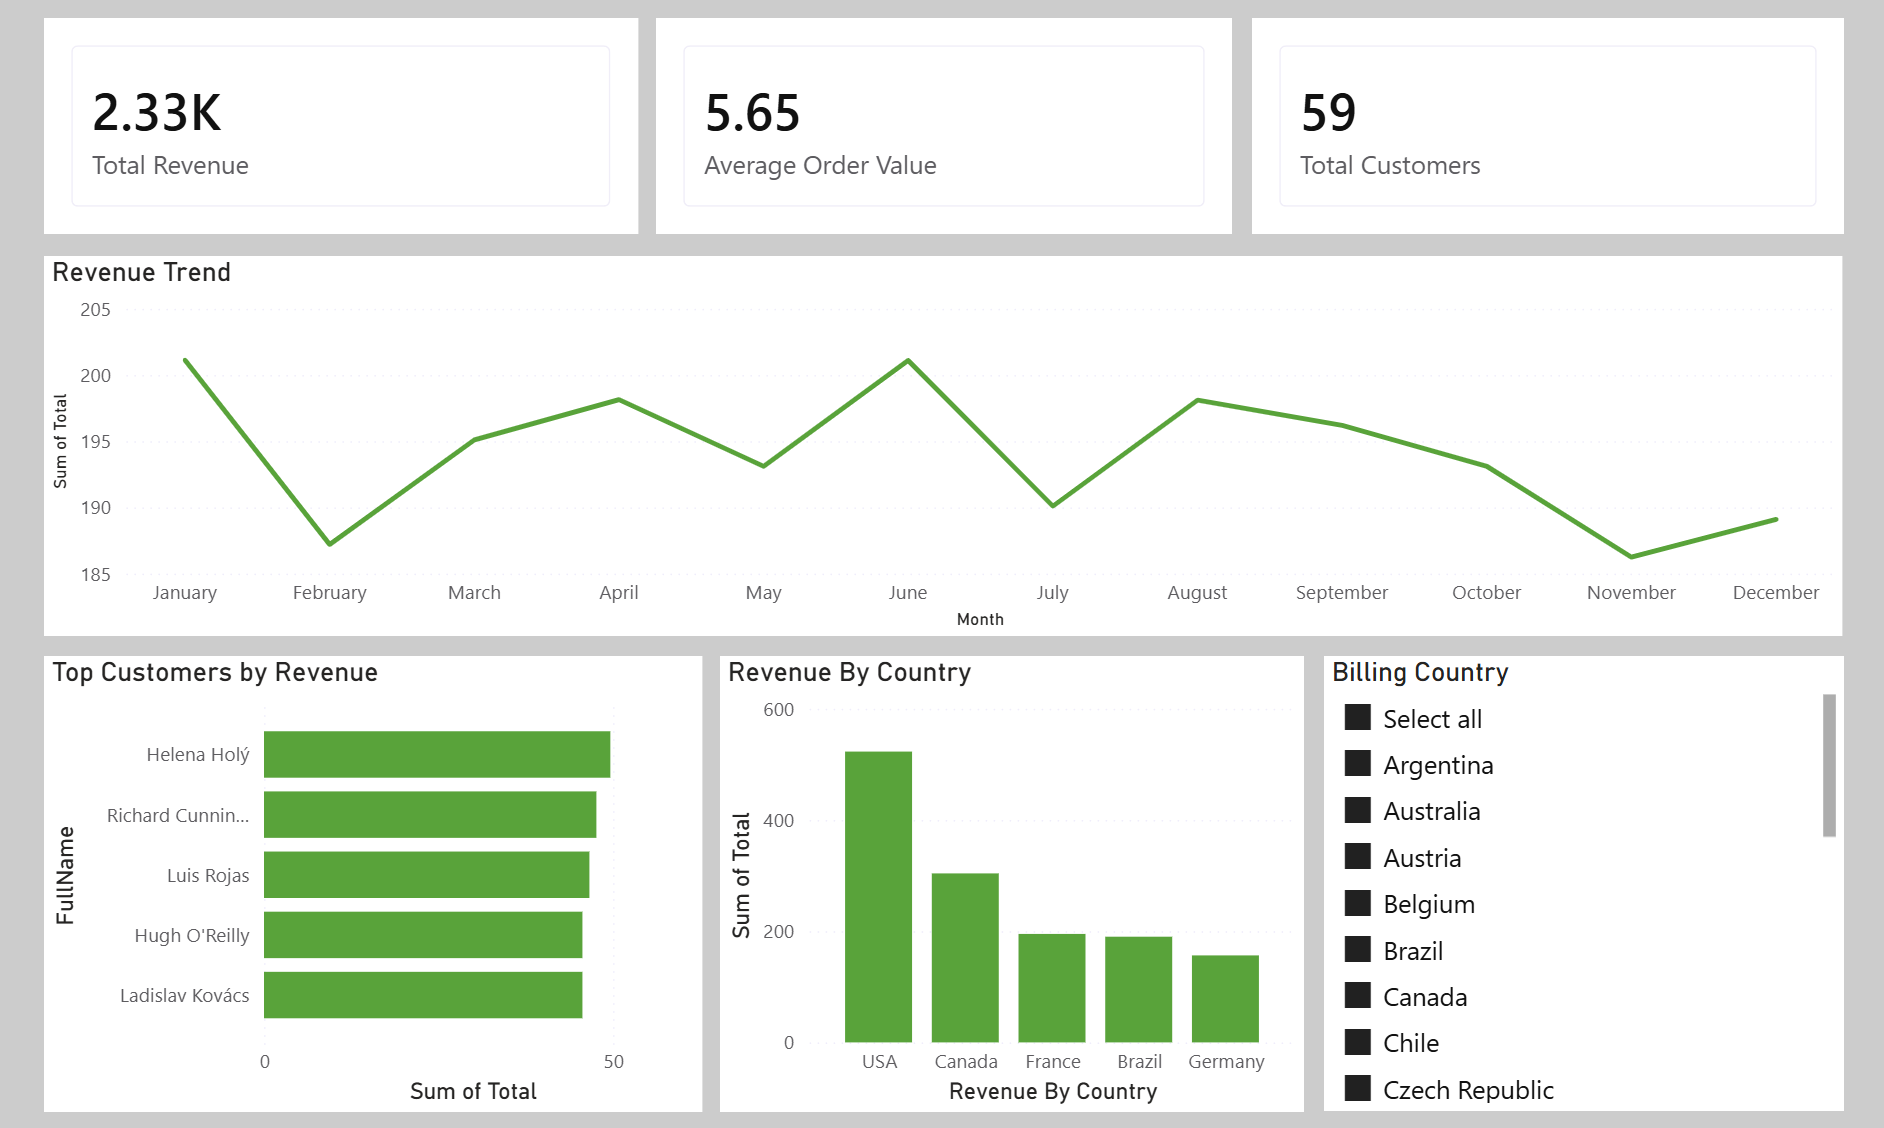

What the dashboard file says about the page in this screenshot:
{"tool":"powerbi","page":{"name":"Page 1","canvas":[1280,720],"ordinal":0},"visuals":[{"type":"lineChart","title":"Revenue Trend","fields":{"Y":["Sum(invoices_202603191633.Total)"],"Category":["invoices_202603191633.InvoiceDate.Variation.Date Hierarchy.Year","invoices_202603191633.InvoiceDate.Variation.Date Hierarchy.Quarter","invoices_202603191633.InvoiceDate.Variation.Date Hierarchy.Month","invoices_202603191633.InvoiceDate.Variation.Date Hierarchy.Day"]},"box":[78.8,168.8,1123.8,237.5],"z":0},{"type":"cardVisual","title":"Total Revenue","fields":{"Data":["Sum(invoices_202603191633.Total)"]},"box":[78.8,20,371.2,135],"z":1000},{"type":"cardVisual","title":"Average Order Value","fields":{"Data":["Avg(invoices_202603191633.Total)"]},"box":[461.2,20,360,135],"z":2000},{"type":"clusteredBarChart","title":"Top Customers by Revenue","fields":{"Y":["Sum(invoices_202603191633.Total)"],"Category":["customers_202603191632.FullName"]},"box":[78.8,418.8,411.2,285],"z":4000},{"type":"actionButton","box":[0,0,100,40],"z":5000},{"type":"clusteredColumnChart","title":"Revenue By Country","fields":{"Y":["Sum(invoices_202603191633.Total)"],"Category":["invoices_202603191633.BillingCountry"]},"box":[501.2,418.8,365,285],"z":6000},{"type":"slicer","title":"Billing Country","fields":{"Values":["invoices_202603191633.BillingCountry"]},"box":[878.8,418.8,325,283.8],"z":7000},{"type":"cardVisual","title":"Total Customers","fields":{"Data":["Count(customers_202603191632.CustomerId)"]},"box":[833.8,20,370,135],"z":7001}]}

Visuals, with their boxes on the page's 1280x720 design canvas (x1, y1, x2, y2). These are canvas units, not pixel positions in the 1884x1128 screenshot, which may show the page scaled, cropped or inside an application window:
"Revenue Trend" lineChart: bbox(79, 169, 1203, 406)
"Total Revenue" cardVisual: bbox(79, 20, 450, 155)
"Average Order Value" cardVisual: bbox(461, 20, 821, 155)
"Top Customers by Revenue" clusteredBarChart: bbox(79, 419, 490, 704)
actionButton: bbox(0, 0, 100, 40)
"Revenue By Country" clusteredColumnChart: bbox(501, 419, 866, 704)
"Billing Country" slicer: bbox(879, 419, 1204, 703)
"Total Customers" cardVisual: bbox(834, 20, 1204, 155)
